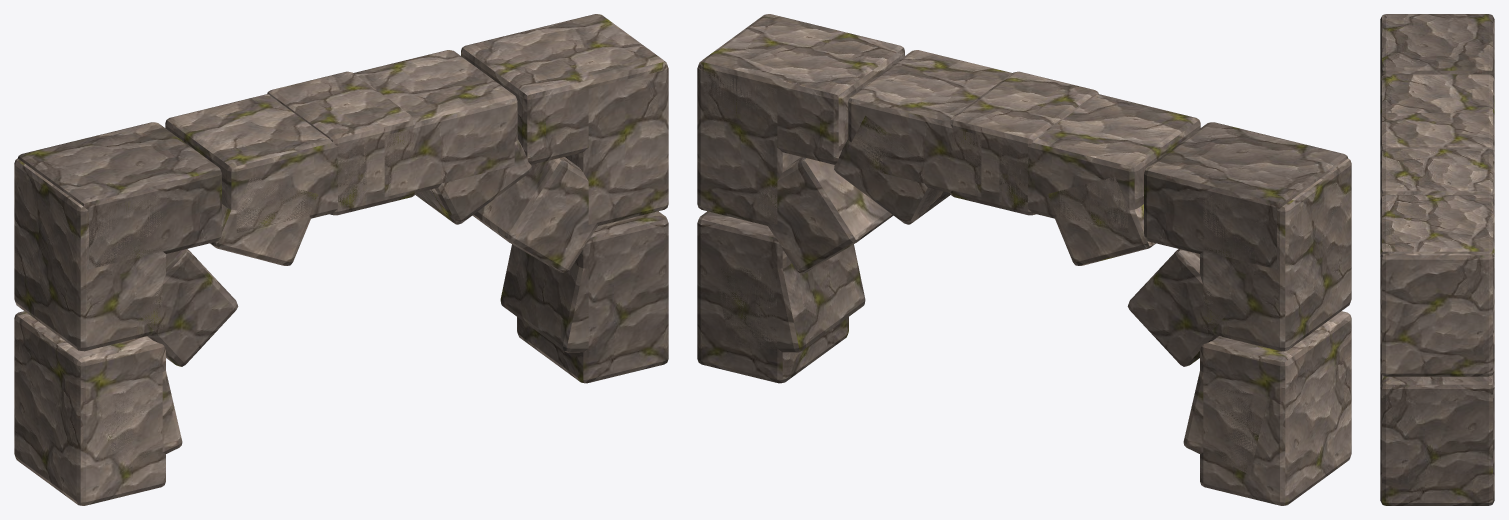
Rendered from arch__cut_stone.glb.
The picture shows the model from 3 angles, left to right: view 1: azimuth 30°, elevation 25°; view 2: azimuth 150°, elevation 25°; view 3: azimuth 270°, elevation 25°; orthographic projection. The views are drawn at different scales.
Parts seen in each view (by area): view 1: model; view 2: model; view 3: model.
Boxes of the visible parts, x1,y1,x2,y2 form: model: [14, 14, 668, 505]; model: [697, 14, 1351, 505]; model: [1380, 14, 1494, 505].
Bounding box in the file's own units: 2 × 1 × 0.4.
3 materials, 3 textured.
